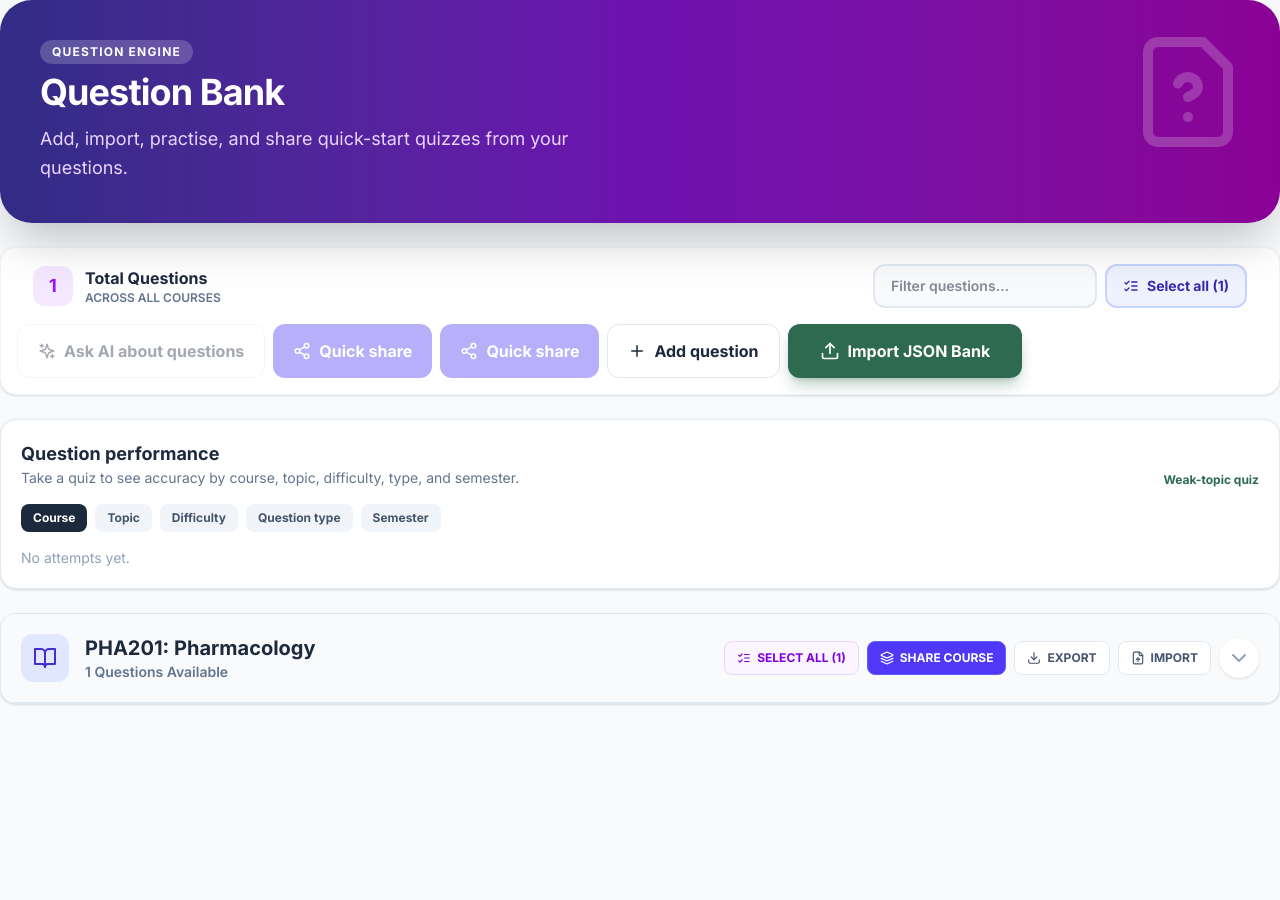
Test: filtering the bank › matches options and answers, not just question text
Step 1. Type "furosemide" into the field with test id "question-filter-input" → [985, 286], box [873, 264, 1097, 308]
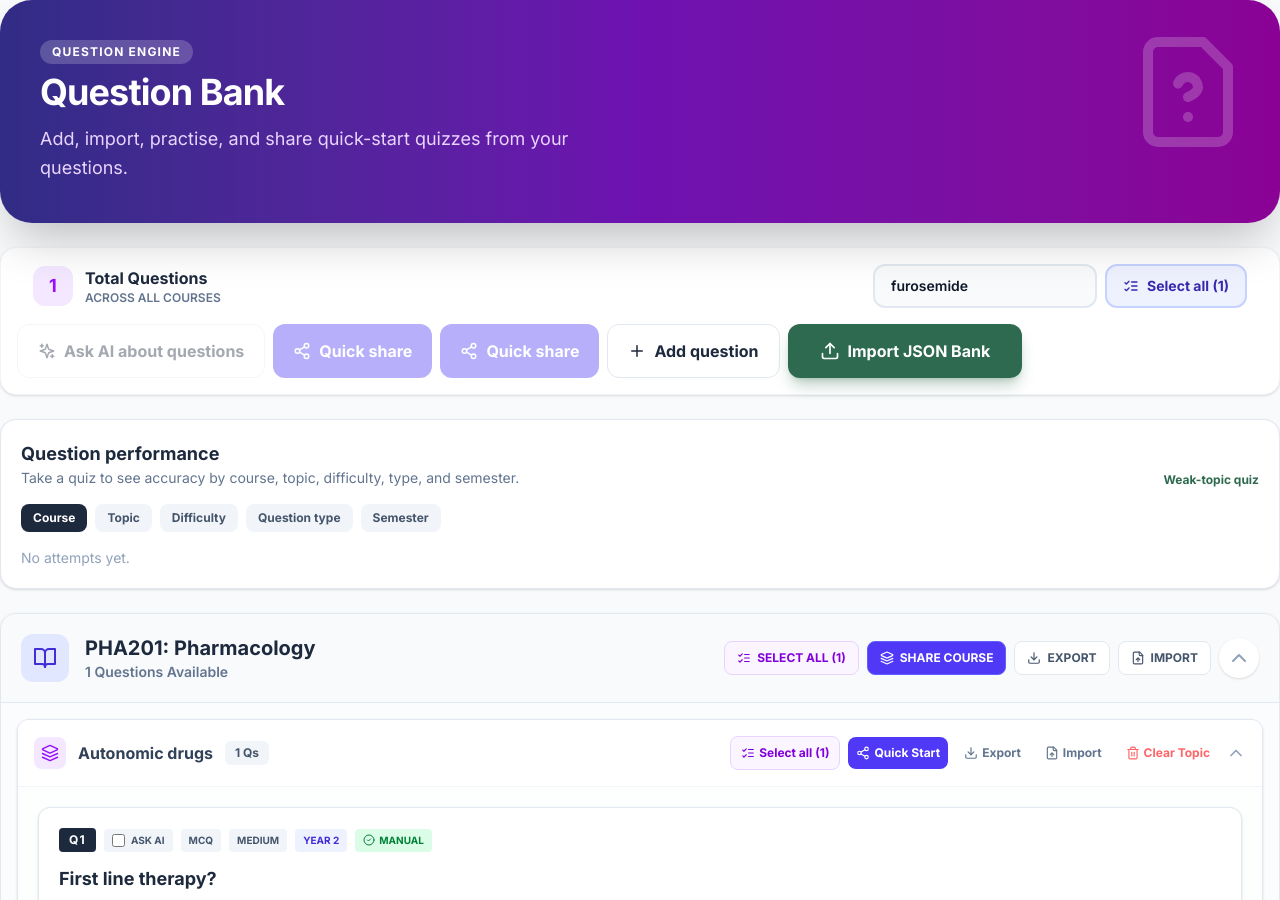
Result: the heading "First line therapy?" is shown at [59, 868, 217, 888]
